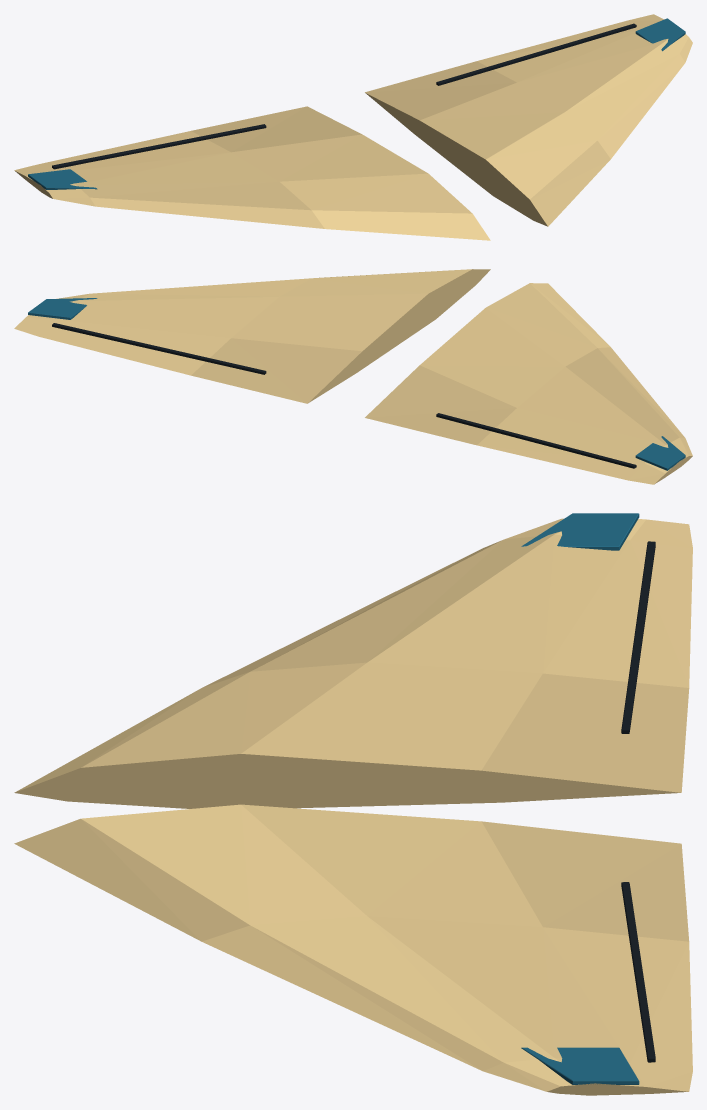
The model's file is EA_DeltaWing.fbx.
3 renders of one model, top to bottom at view 1: azimuth 30°, elevation 25°; view 2: azimuth 150°, elevation 25°; view 3: azimuth 270°, elevation 25°, orthographic. The views are drawn at different scales.
Visible parts, largest first — view 1: EA_DeltaWing; view 2: EA_DeltaWing; view 3: EA_DeltaWing.
Part boxes in pixels (x1,y1,x2,y2): EA_DeltaWing: (14,14,692,240); EA_DeltaWing: (14,269,692,484); EA_DeltaWing: (14,513,692,1095).
Size of the model in its own units: 3.58 by 0.1668 by 1.81.
Materials: 3 (3 with a texture image).
